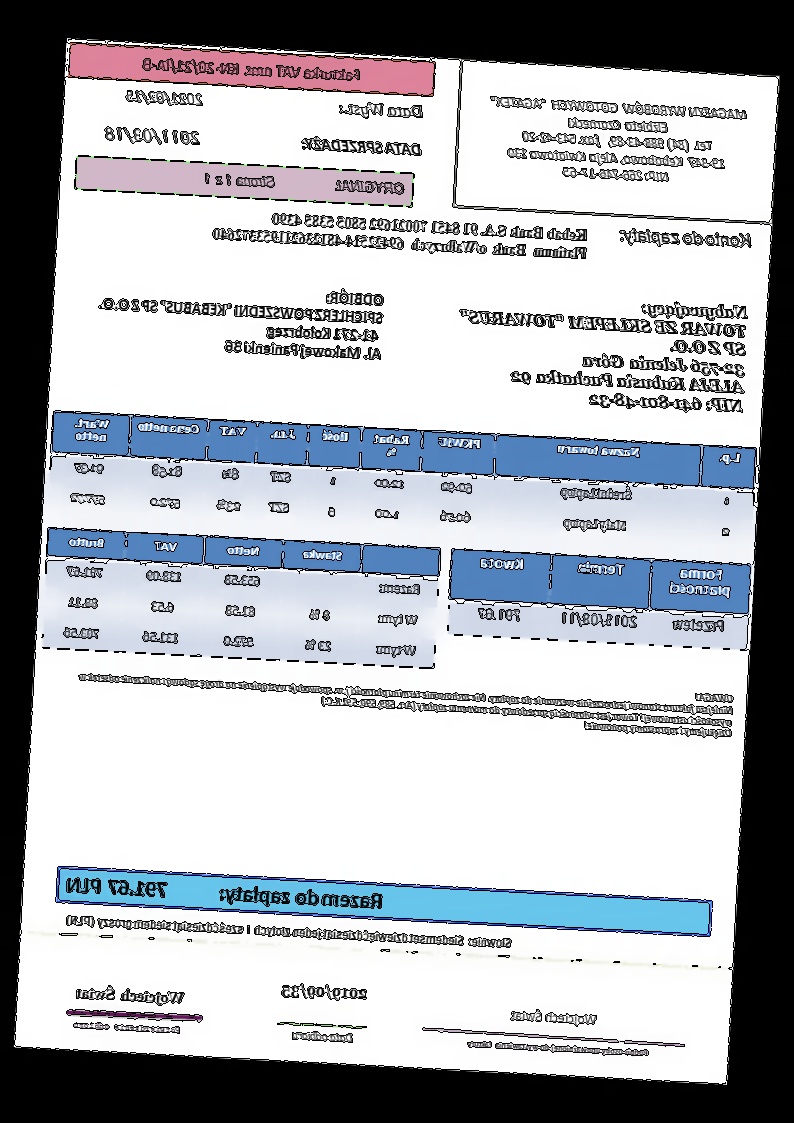Table: (47, 407, 759, 553), (40, 527, 444, 671), (446, 547, 753, 653)
TextBox: (75, 657, 736, 740), (455, 289, 751, 419), (91, 275, 388, 363), (482, 93, 752, 189), (211, 204, 592, 265), (63, 910, 517, 952), (64, 871, 389, 914), (139, 54, 366, 84), (198, 168, 407, 198), (463, 1037, 652, 1059), (616, 223, 758, 251), (301, 133, 425, 161), (71, 981, 192, 1009), (102, 121, 204, 148), (278, 979, 372, 1004), (334, 97, 427, 122), (509, 1004, 602, 1029), (124, 83, 205, 111), (71, 1017, 184, 1037), (290, 1025, 356, 1046)
